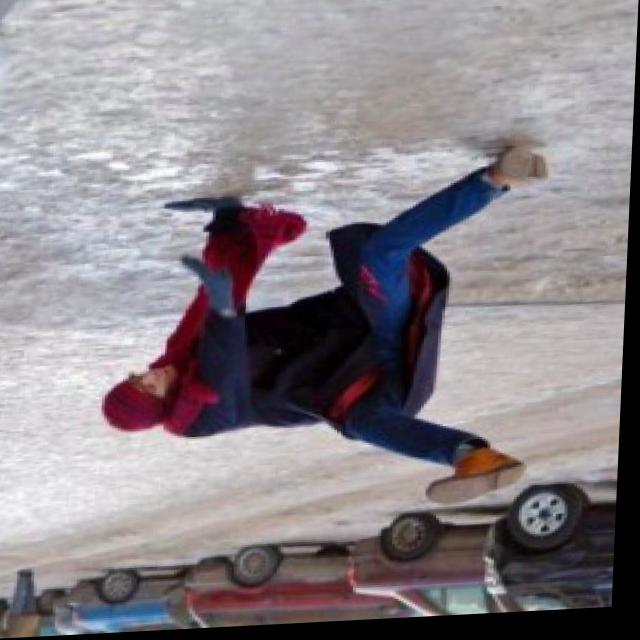fall: (111, 145, 570, 519)
